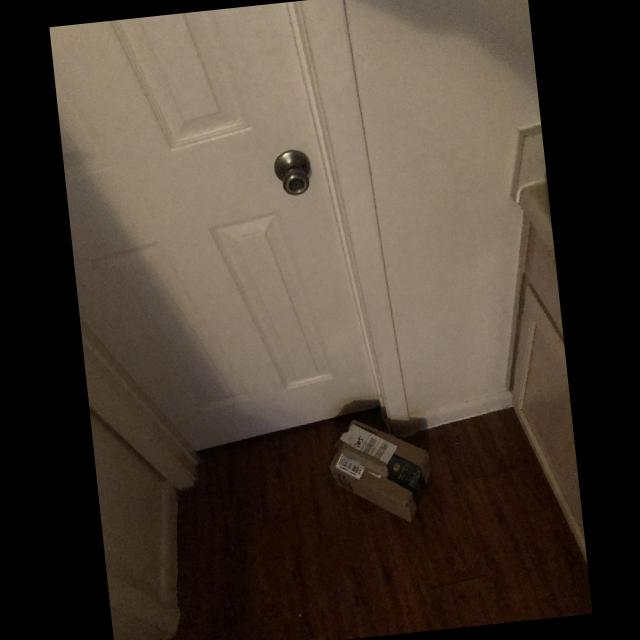box: (320, 408, 438, 536)
